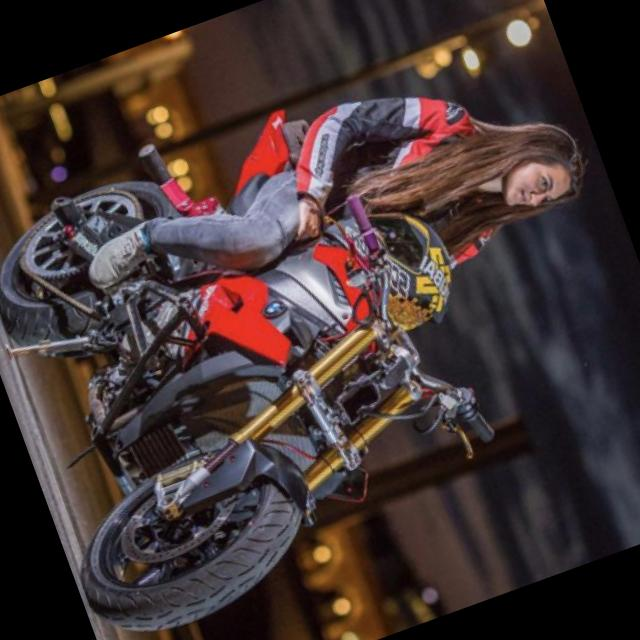bareface: (478, 98, 600, 232)
